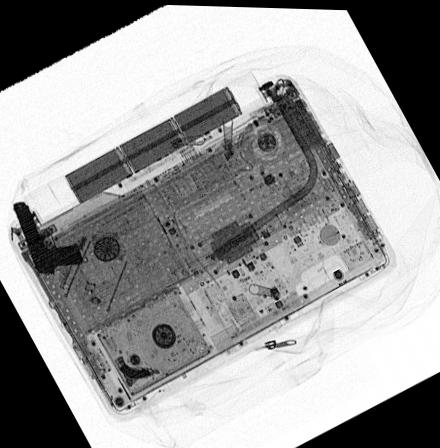Gun: (10, 199, 85, 274)
